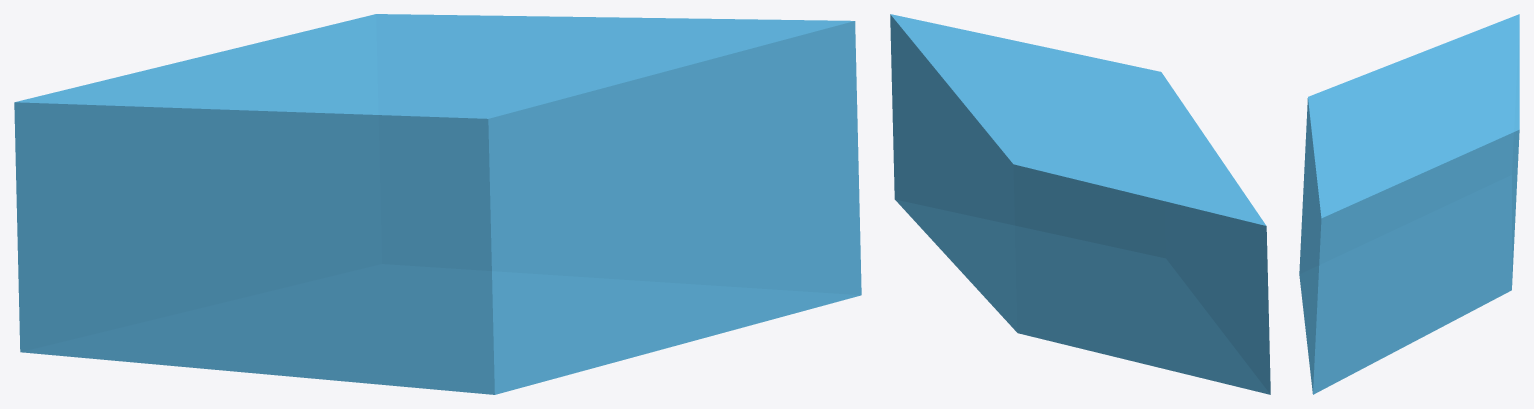
Rendered from Event_421278790_HBrechit_28.fbx.
3 renders of one model, left to right at view 1: azimuth 30°, elevation 25°; view 2: azimuth 150°, elevation 25°; view 3: azimuth 270°, elevation 25°, orthographic. The views are drawn at different scales.
Parts seen in each view (by area): view 1: Model; view 2: Model; view 3: Model.
Part boxes in pixels (<box>): Model: <box>14,14,861,394</box>; Model: <box>890,14,1270,394</box>; Model: <box>1299,14,1519,394</box>.
Size of the model in its own units: 1.18 by 0.4432 by 0.4984.
